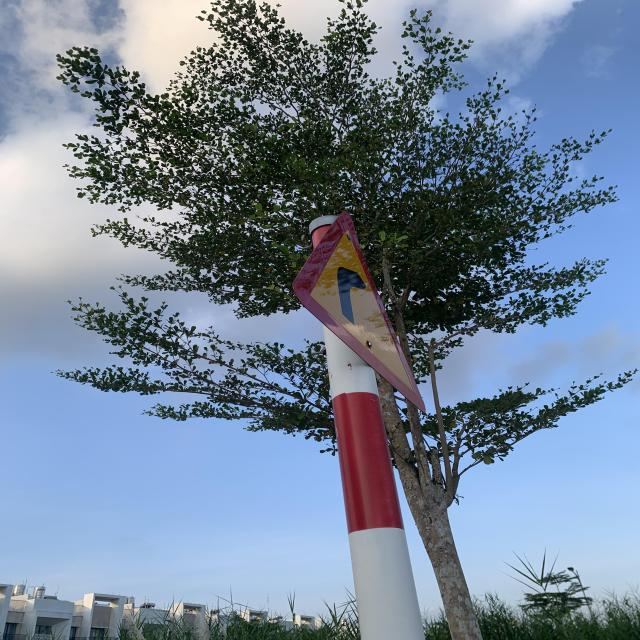Duong_Nguoi_Di_Bo_Cat_Ngang: (301, 208, 425, 414)
